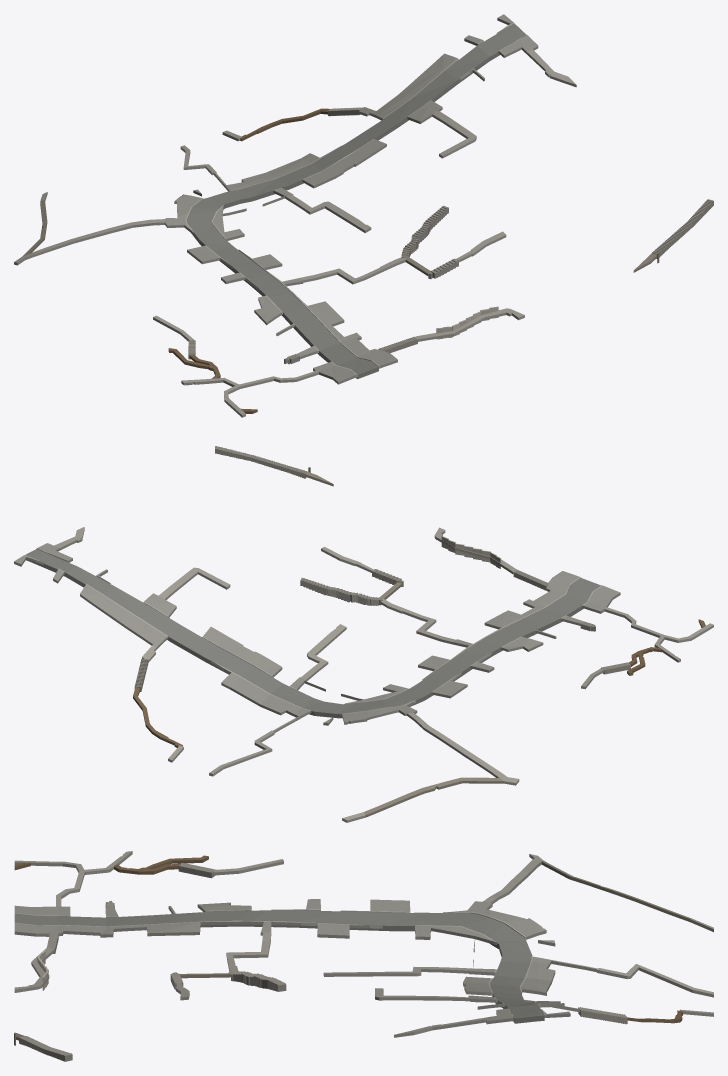
The picture shows the model from 3 angles, top to bottom: view 1: azimuth 30°, elevation 25°; view 2: azimuth 150°, elevation 25°; view 3: azimuth 270°, elevation 25°; orthographic projection. The views are drawn at different scales.
Size of the model in its own units: 147 by 35.58 by 146.
